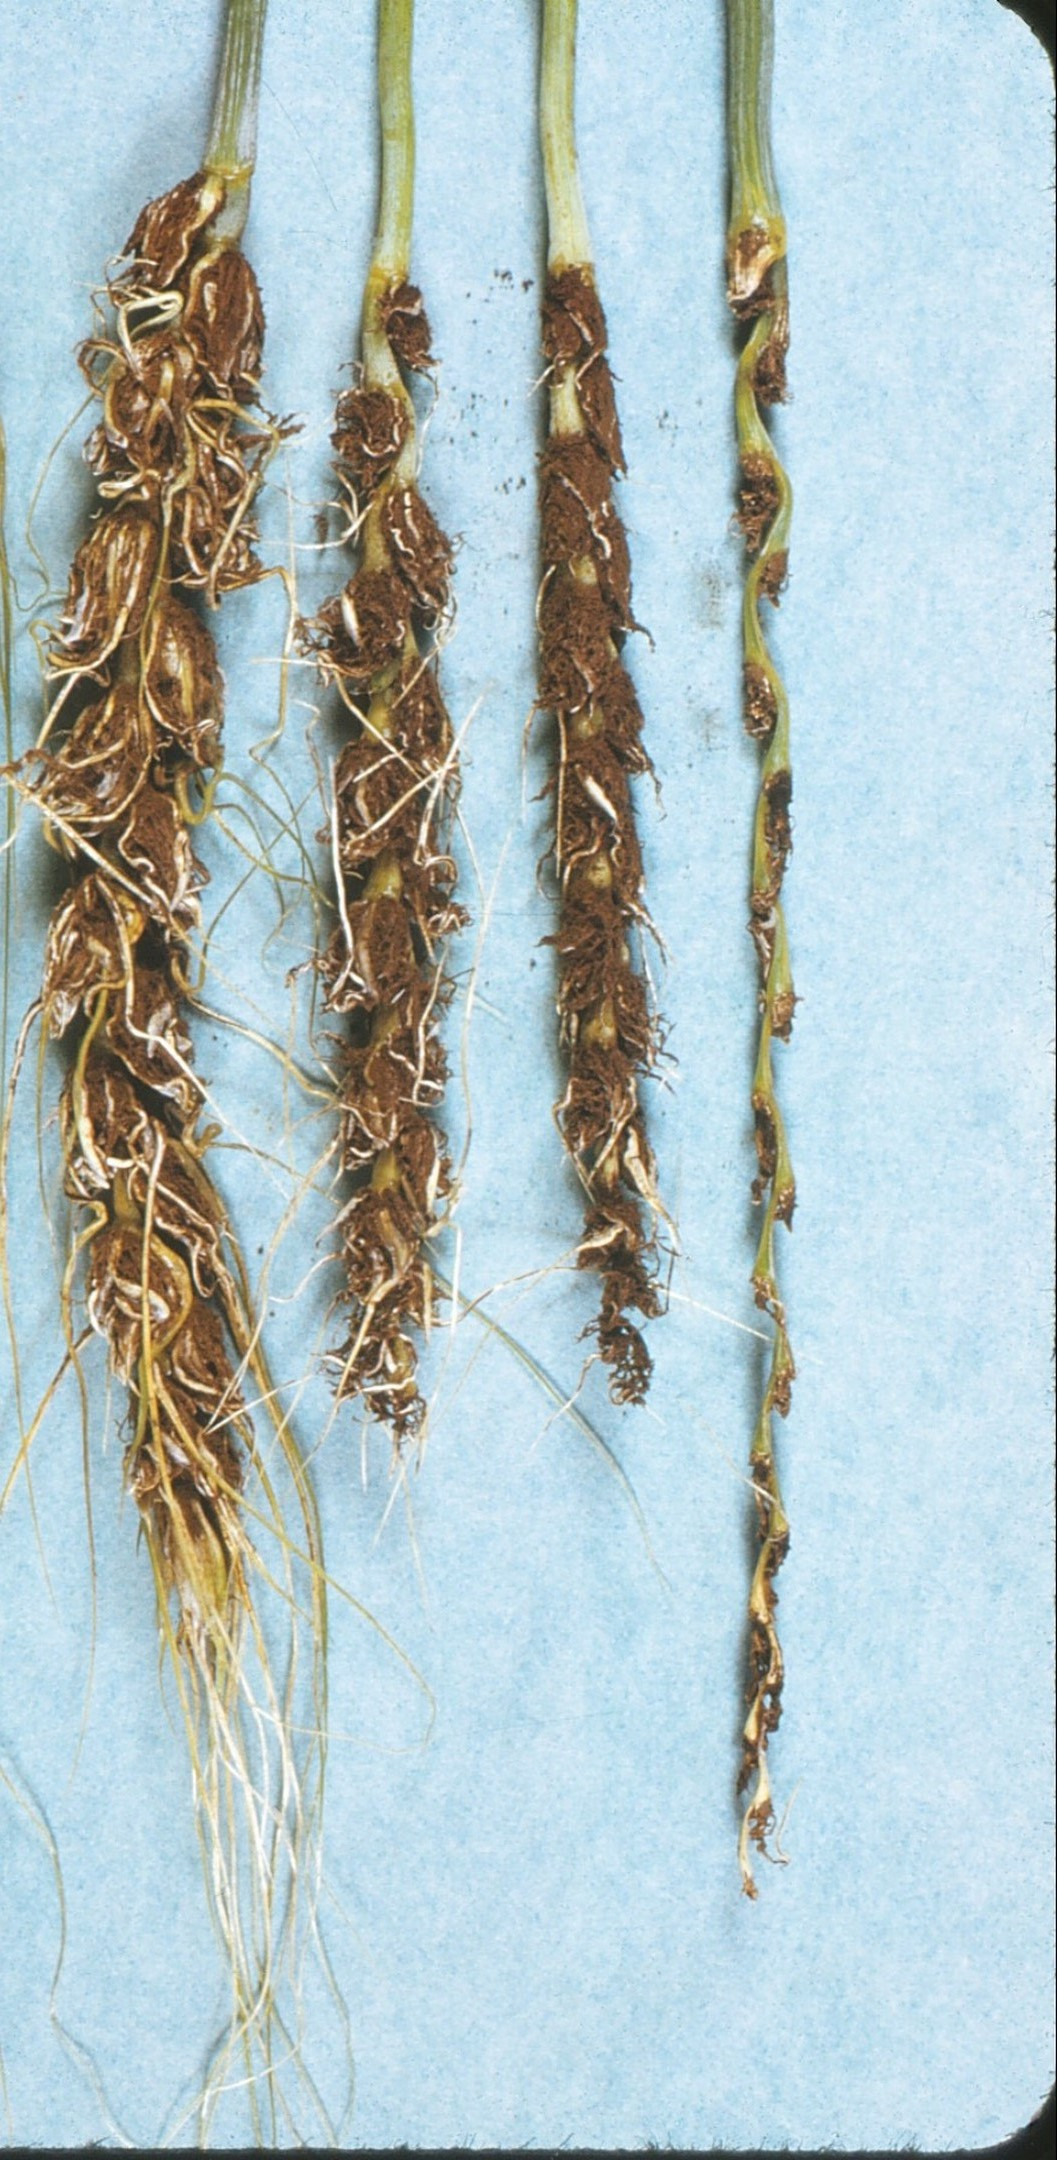Wheat Loose Smut: (320, 212, 901, 1845), (23, 142, 305, 1715)
